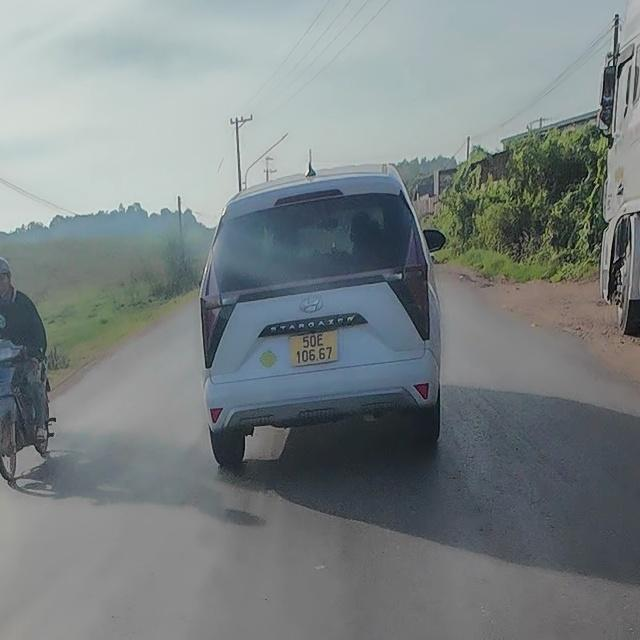license-plate: (289, 330, 337, 367)
